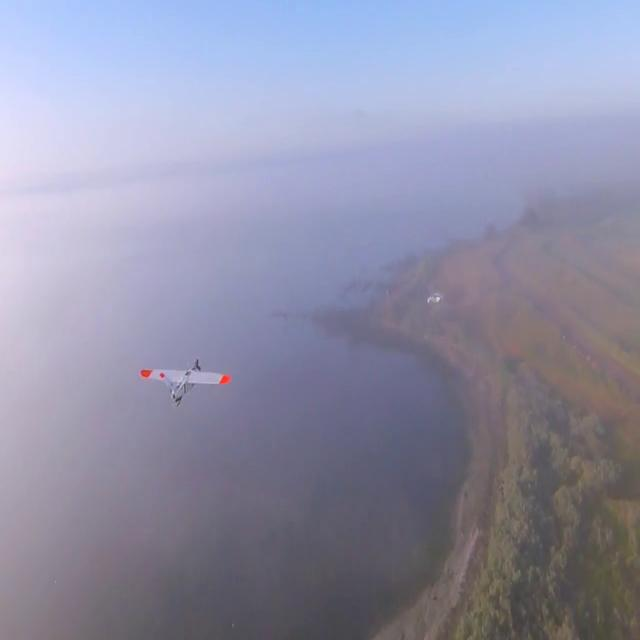iha: (172, 359, 200, 409)
